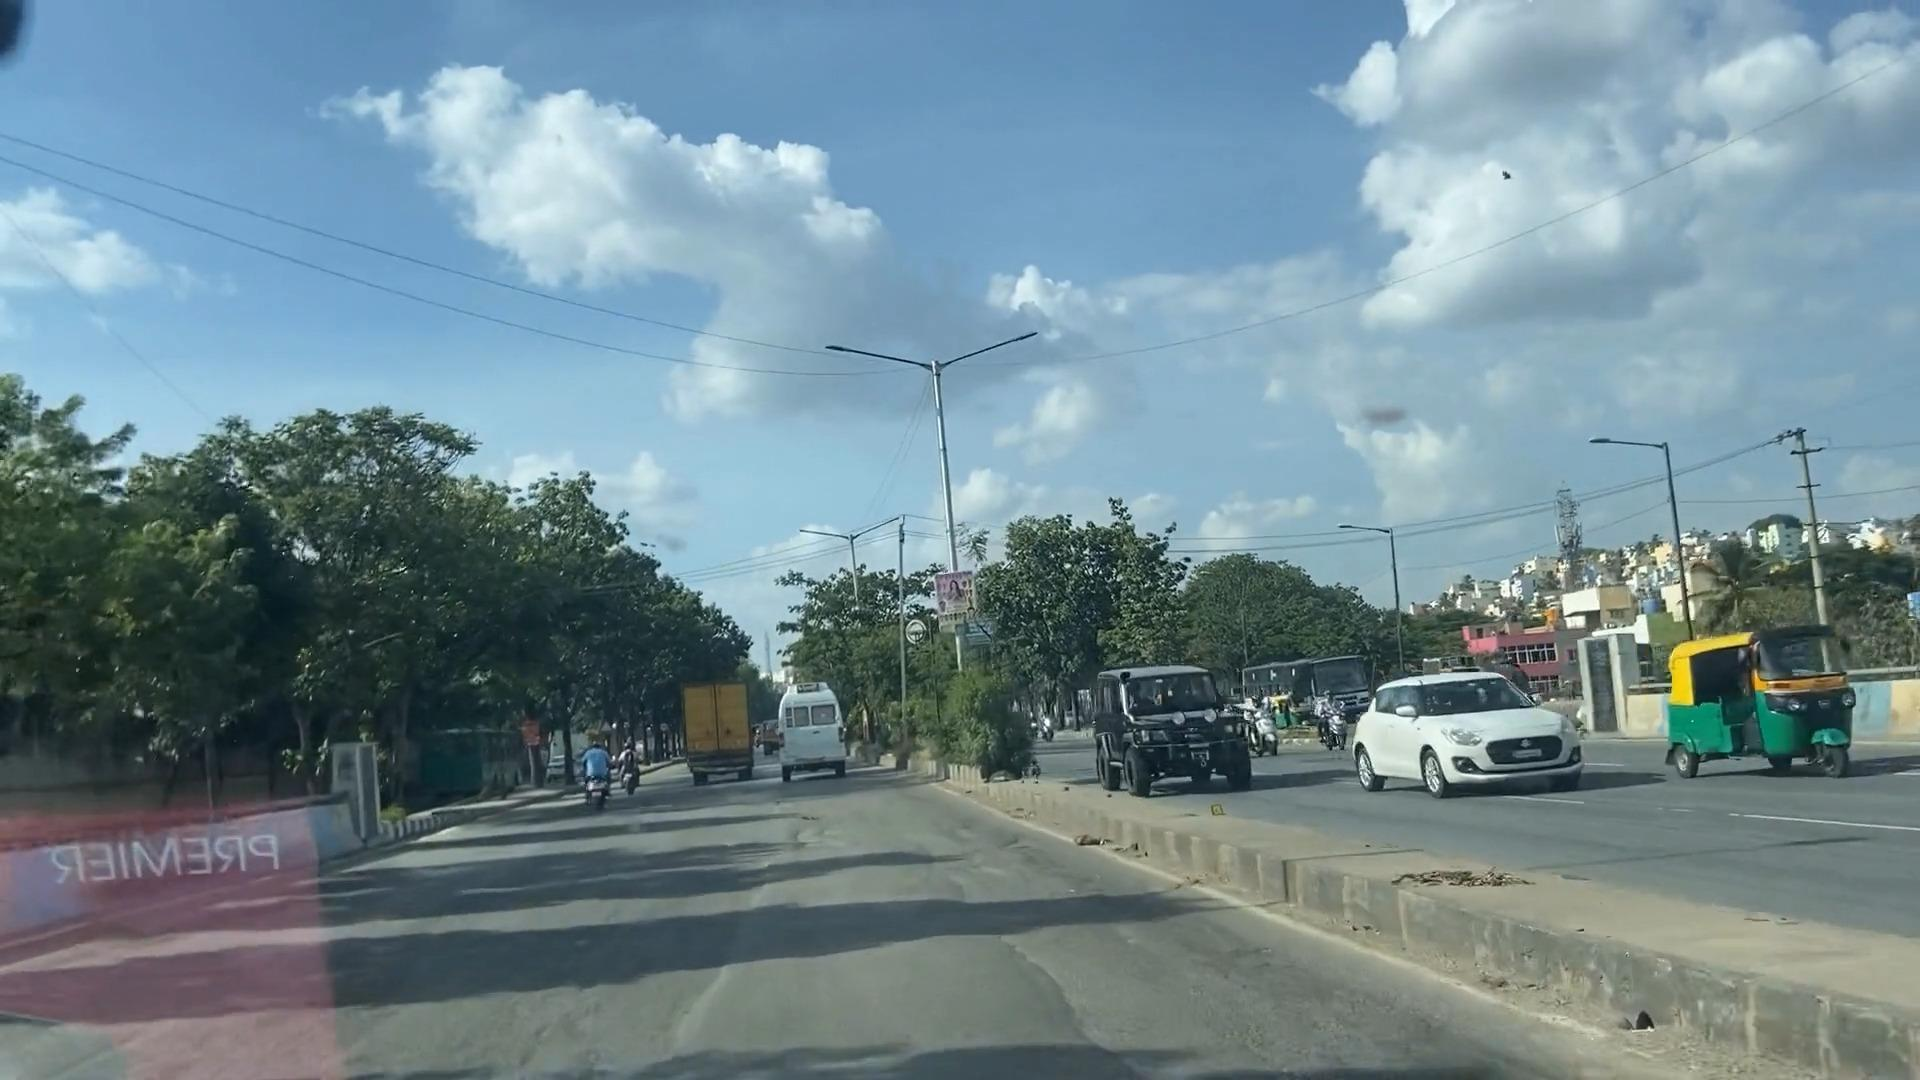HMV: (662, 682, 770, 778), (775, 671, 856, 779)
LMV: (576, 724, 629, 807), (611, 733, 638, 774)
RoadDamages: (930, 864, 1315, 1080), (467, 956, 725, 1080)
